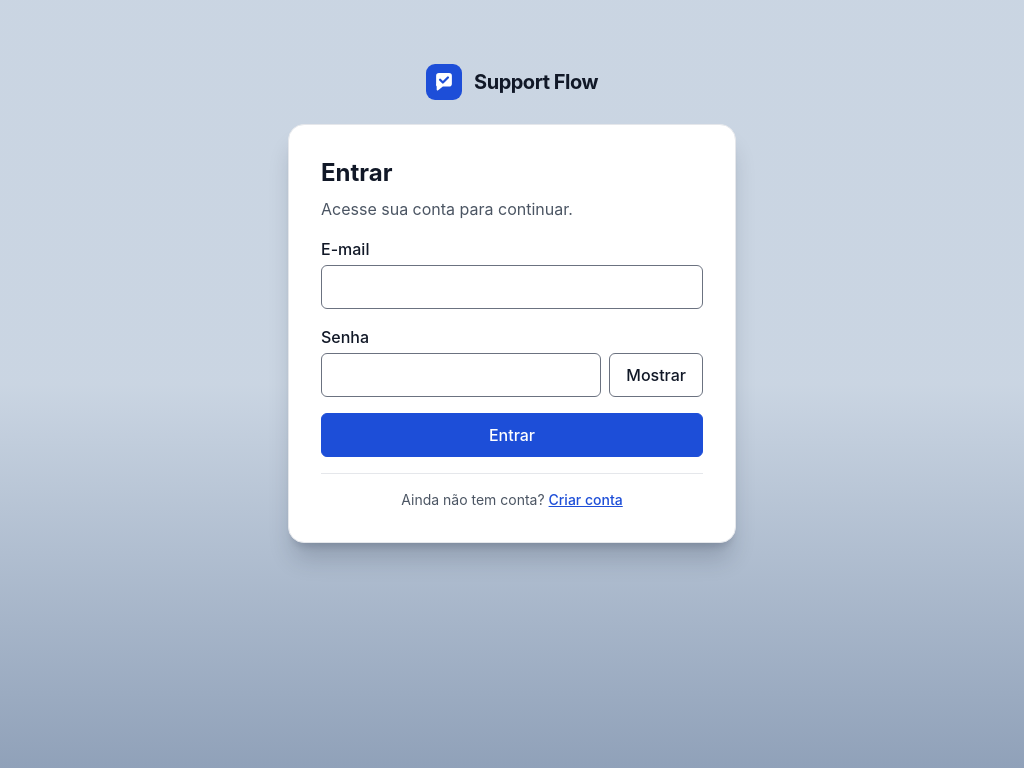
Test: sessão e rotas › login leva ao destino guardado
Type "a@x.dev" into the field labelled "E-mail".
click(512, 287); type("a@x.dev")  # box [321,265,703,309]
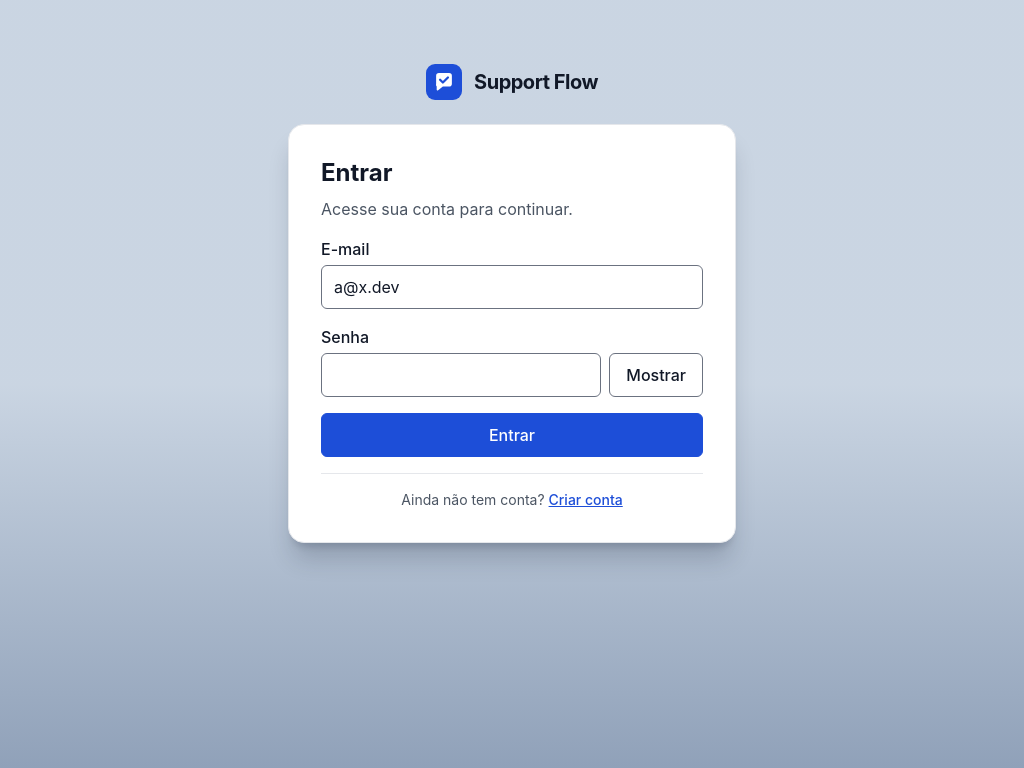
Type "senha-forte" into the password field labelled "Senha".
click(461, 375); type("senha-forte")  # box [321,353,601,397]
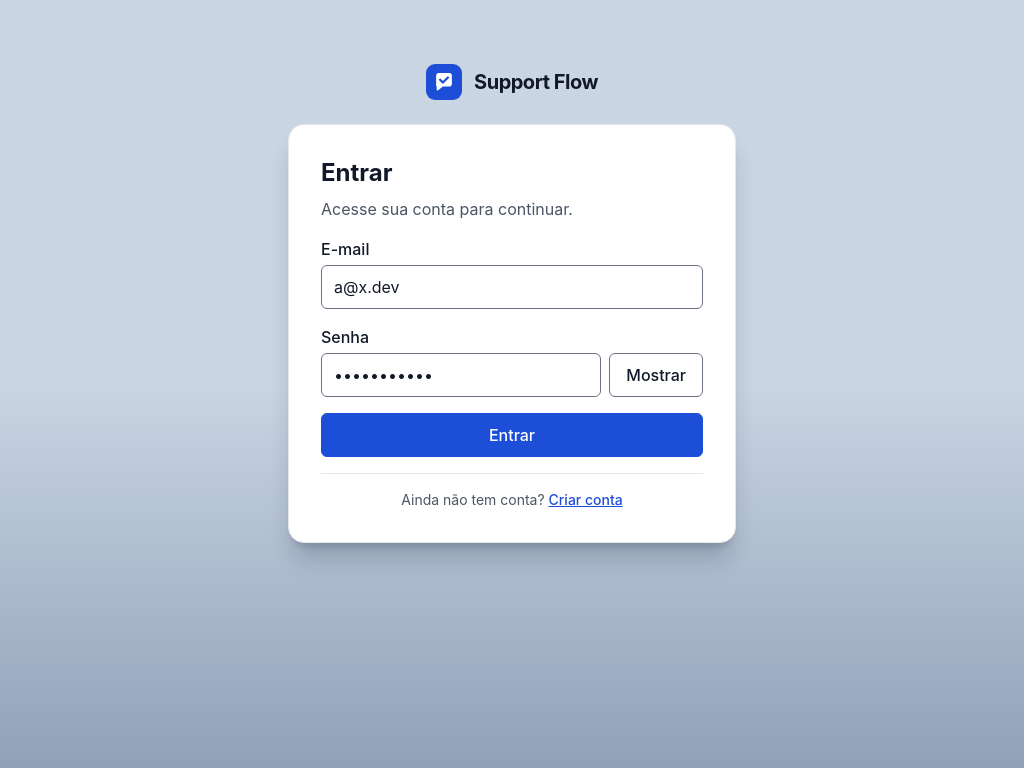
Click the button "Entrar".
click(512, 435)  # box [321,413,703,457]
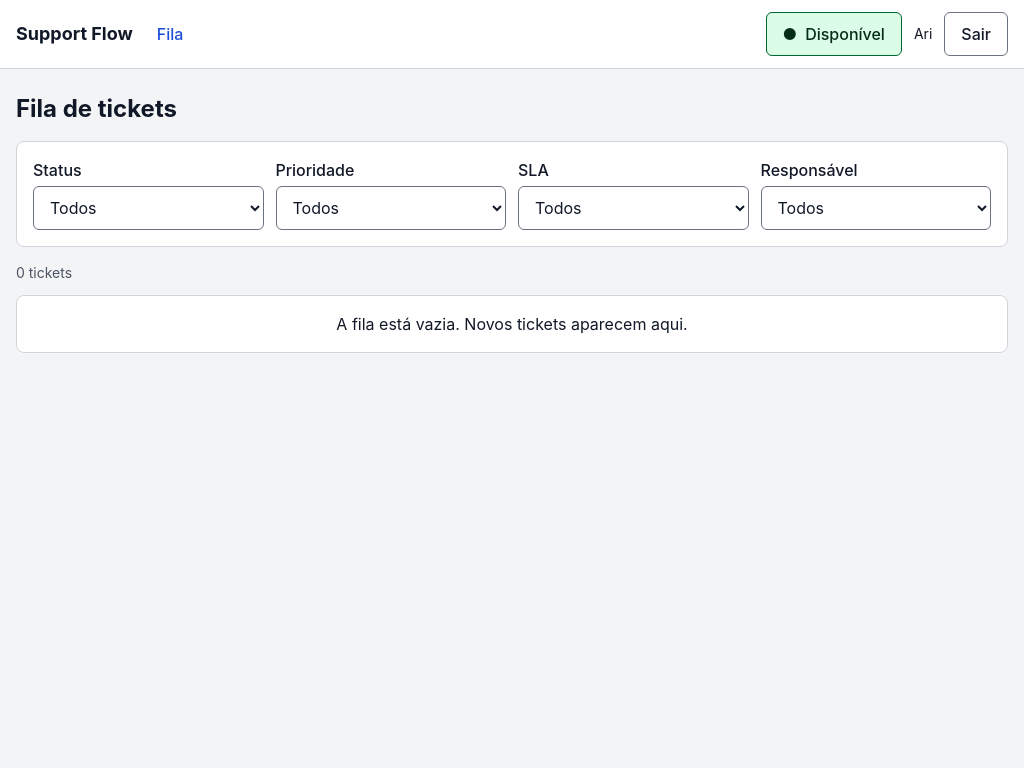
Check: the heading "Fila de tickets" is shown, box [16,93,177,125]
